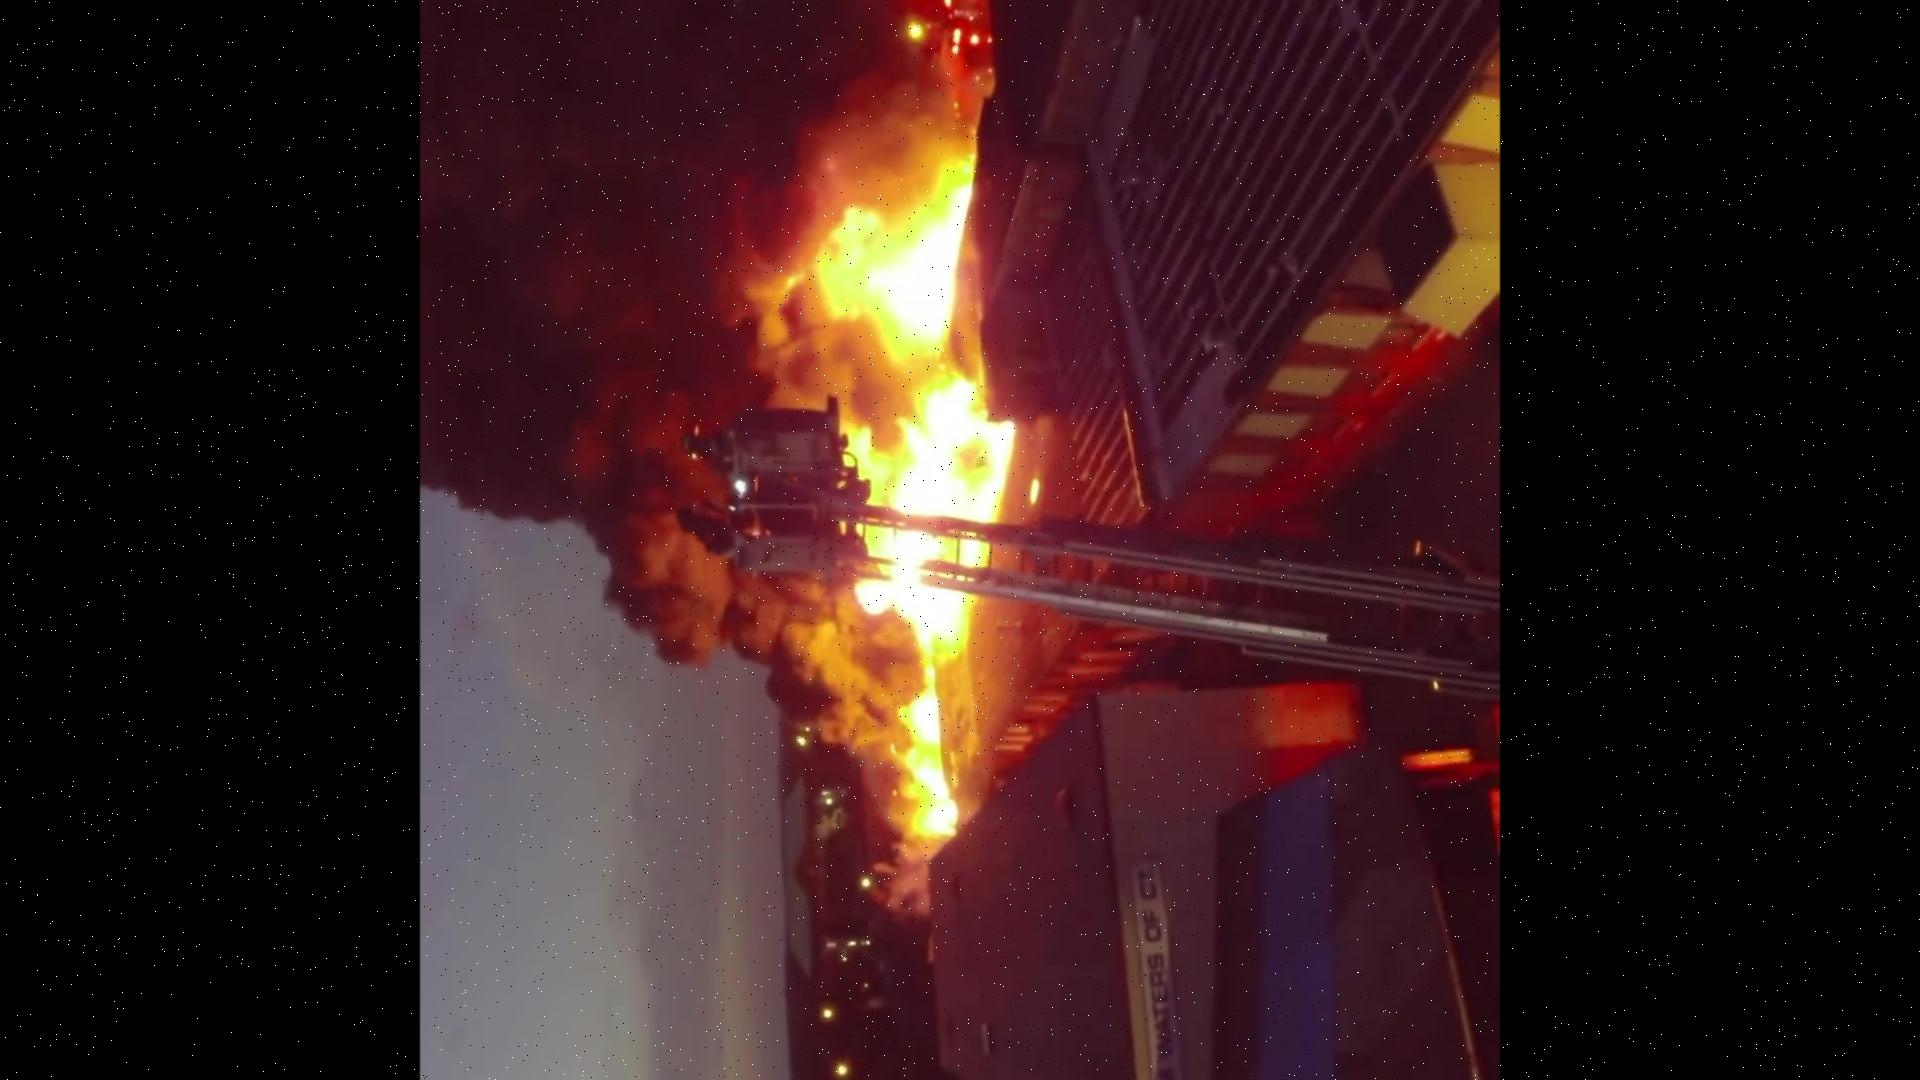fire: (799, 61, 1050, 843)
